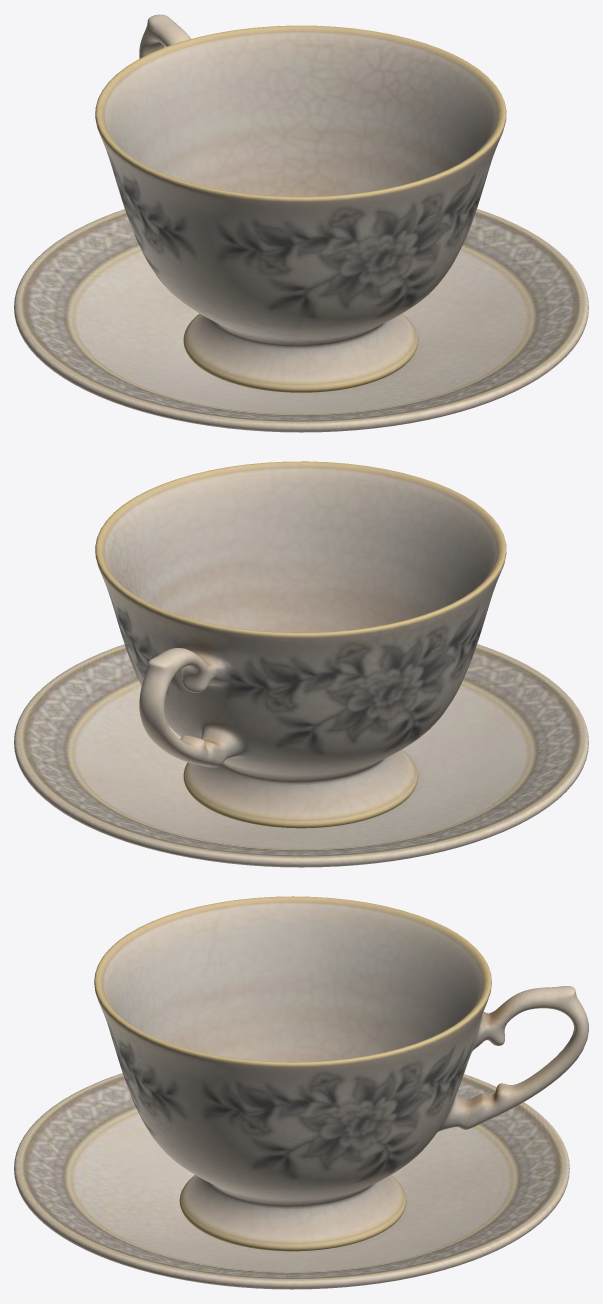
The model's file is DiffuseTransmissionTeacup.gltf.
3 views of the same model, one above another, from view 1: azimuth 30°, elevation 25°; view 2: azimuth 150°, elevation 25°; view 3: azimuth 270°, elevation 25° (orthographic). The views are drawn at different scales.
Parts seen in each view (by area): view 1: tea_cup, tea_saucer; view 2: tea_cup, tea_saucer; view 3: tea_cup, tea_saucer.
Part boxes in pixels (x1=…): tea_cup: x1=95, y1=14, x2=506, y2=392; tea_saucer: x1=14, y1=209, x2=588, y2=432; tea_cup: x1=95, y1=461, x2=506, y2=828; tea_saucer: x1=14, y1=644, x2=588, y2=867; tea_cup: x1=94, y1=896, x2=588, y2=1251; tea_saucer: x1=14, y1=1073, x2=569, y2=1289.
Bounding box in the file's own units: 0.1486 × 0.0704 × 0.1537.
2 materials, 2 textured.
